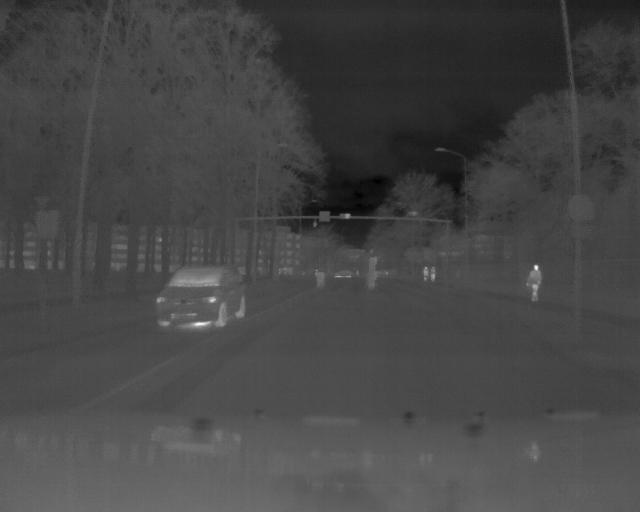car: (153, 263, 248, 327)
person: (526, 264, 545, 307), (430, 264, 439, 283), (421, 264, 429, 282)
